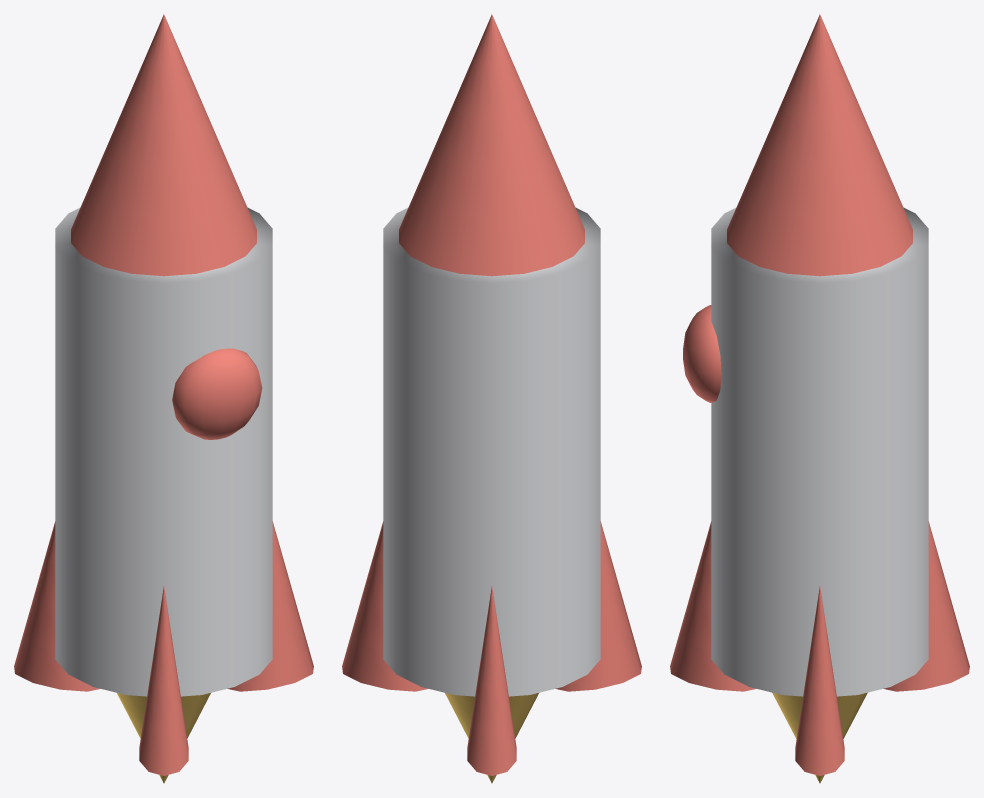
The model's file is rocket.glb.
3 views of the same model, side by side, from view 1: azimuth 30°, elevation 25°; view 2: azimuth 150°, elevation 25°; view 3: azimuth 270°, elevation 25° (orthographic).
Visible parts, largest first — view 1: Body, NoseCone, Window, Fin1, Fin0, Fin2, Exhaust; view 2: Body, NoseCone, Fin2, Fin0, Fin1, Exhaust; view 3: Body, NoseCone, Fin0, Fin1, Fin2, Window, Exhaust.
Boxes of the visible parts, bbox=[...] form: Body: bbox=[55, 207, 272, 696]; NoseCone: bbox=[71, 14, 256, 276]; Window: bbox=[172, 348, 262, 439]; Fin1: bbox=[139, 586, 188, 775]; Fin0: bbox=[227, 521, 313, 691]; Fin2: bbox=[14, 521, 100, 691]; Exhaust: bbox=[117, 693, 210, 783]; Body: bbox=[383, 207, 600, 696]; NoseCone: bbox=[399, 14, 584, 276]; Fin2: bbox=[467, 586, 516, 775]; Fin0: bbox=[342, 521, 428, 691]; Fin1: bbox=[555, 521, 641, 691]; Exhaust: bbox=[445, 693, 538, 783]; Body: bbox=[711, 207, 928, 696]; NoseCone: bbox=[727, 14, 912, 276]; Fin0: bbox=[795, 586, 844, 775]; Fin1: bbox=[670, 521, 756, 691]; Fin2: bbox=[883, 521, 969, 691]; Window: bbox=[683, 305, 721, 402]; Exhaust: bbox=[772, 692, 867, 783].
Size of the model in its own units: 0.5139 by 1.54 by 0.5436.
